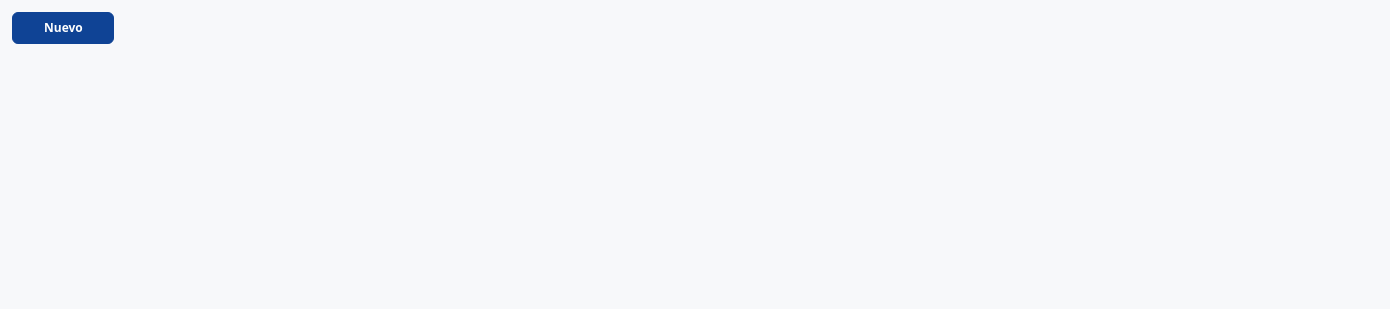
Scenario: QuickAddMenu — acciones filtradas por permiso › Obrero: puede reportar alerta/actividad/foto, no crear tarea, pedido, material ni proveedor
Click the button "Nuevo" at [63, 28], box [12,12,114,44]
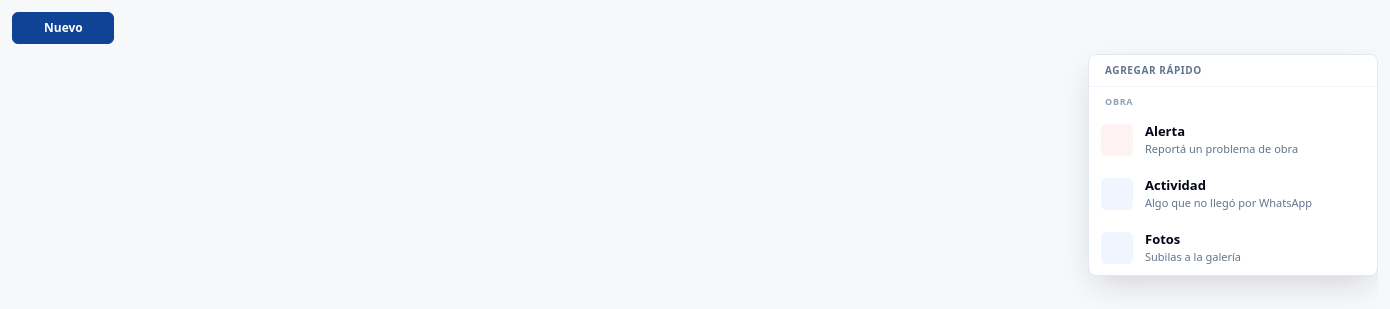
Expected: the text "Alerta" is shown, [1145,122,1185,140]
Expected: the text "Actividad" is shown, [1145,176,1206,194]
Expected: the text "Fotos" is shown, [1145,230,1180,248]
